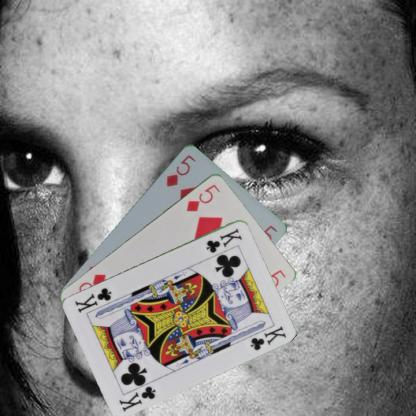5d: (164, 151, 198, 188), (184, 180, 221, 212)
Kc: (116, 382, 157, 412), (204, 225, 244, 254)
